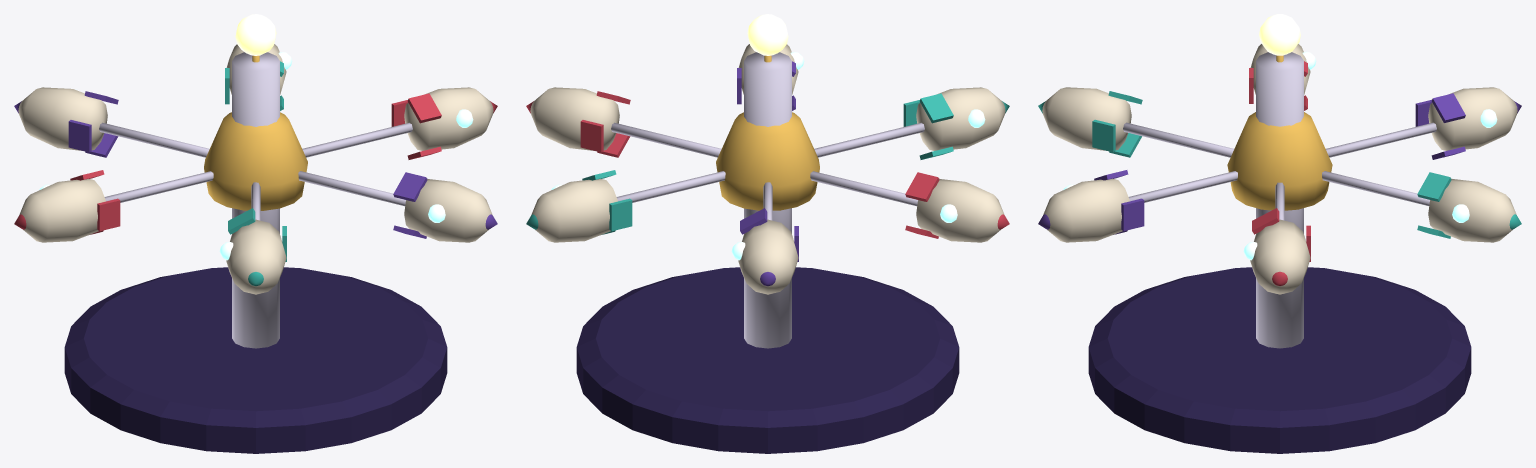
File: rocket-ride.glb
3 renders of one model, left to right at view 1: azimuth 30°, elevation 25°; view 2: azimuth 150°, elevation 25°; view 3: azimuth 270°, elevation 25°, orthographic.
Parts seen in each view (by area): view 1: base, hub, post, rocket-3, rocket-5, rocket-2, rocket-0, rocket-4, star, rod-2, rod-0, rod-5 (+5 smaller); view 2: base, hub, post, rocket-1, rocket-3, rocket-0, rocket-4, rocket-2, star, rod-4, rod-0, rod-3 (+5 smaller); view 3: base, hub, post, rocket-5, rocket-1, rocket-4, rocket-2, rocket-0, star, rod-2, rod-4, rod-1 (+5 smaller).
Boxes of the visible parts, left/top/right/bottom form: base: left=64, top=267, right=447, bottom=453; hub: left=204, top=112, right=307, bottom=210; post: left=232, top=52, right=279, bottom=348; rocket-3: left=19, top=178, right=105, bottom=242; rocket-5: left=404, top=179, right=492, bottom=242; rocket-2: left=18, top=87, right=107, bottom=150; rocket-0: left=404, top=87, right=493, bottom=150; rocket-4: left=226, top=219, right=286, bottom=294; star: left=235, top=14, right=276, bottom=55; rod-2: left=99, top=122, right=209, bottom=157; rod-0: left=302, top=122, right=412, bottom=157; rod-5: left=298, top=171, right=405, bottom=206; base: left=576, top=267, right=959, bottom=453; hub: left=716, top=112, right=819, bottom=210; post: left=744, top=52, right=791, bottom=348; rocket-1: left=531, top=178, right=617, bottom=242; rocket-3: left=916, top=179, right=1004, bottom=242; rocket-0: left=530, top=87, right=619, bottom=150; rocket-4: left=916, top=87, right=1005, bottom=150; rocket-2: left=738, top=219, right=798, bottom=294; star: left=747, top=14, right=788, bottom=55; rod-4: left=814, top=122, right=924, bottom=157; rod-0: left=611, top=122, right=721, bottom=157; rod-3: left=810, top=171, right=917, bottom=206; base: left=1088, top=267, right=1471, bottom=453; hub: left=1227, top=112, right=1332, bottom=210; post: left=1256, top=52, right=1303, bottom=348; rocket-5: left=1043, top=178, right=1129, bottom=242; rocket-1: left=1428, top=178, right=1516, bottom=242; rocket-4: left=1042, top=87, right=1131, bottom=150; rocket-2: left=1428, top=87, right=1517, bottom=150; rocket-0: left=1250, top=219, right=1310, bottom=294; star: left=1259, top=14, right=1300, bottom=55; rod-2: left=1325, top=122, right=1436, bottom=157; rod-4: left=1123, top=122, right=1234, bottom=157; rod-1: left=1322, top=171, right=1429, bottom=205.
Size of the model in its own units: 5.84 by 4.12 by 5.06.
